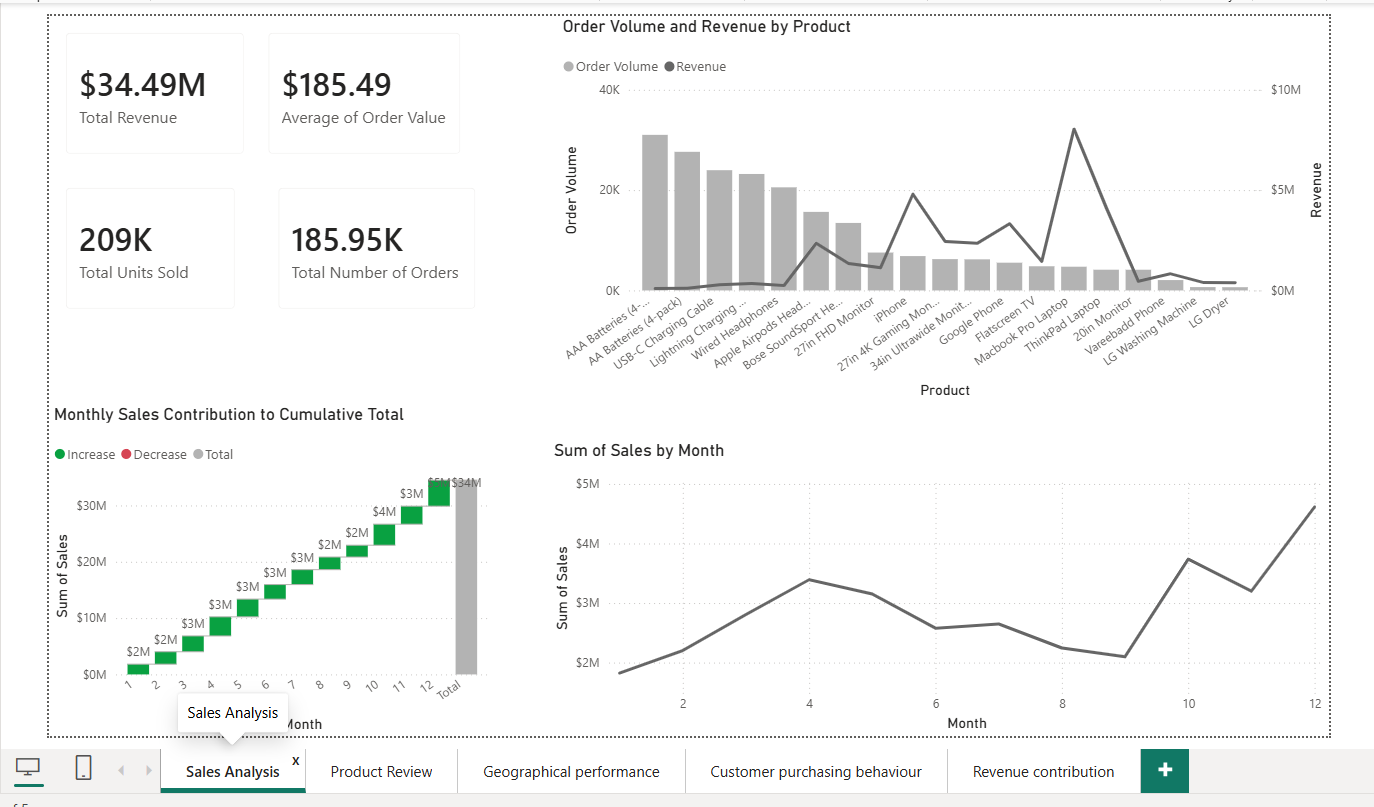

The dashboard page shown, as its layout file describes it:
{"tool":"powerbi","page":{"name":"Sales Analysis","canvas":[1280,720],"ordinal":0},"visuals":[{"type":"cardVisual","fields":{"Data":["Sales Data For Analysis.Total Revenue"]},"box":[0,0,212.7,155.1],"z":0},{"type":"lineClusteredColumnComboChart","fields":{"Category":["Sales Data For Analysis.Product"],"Y":["Sum(Sales Data For Analysis.Quantity Ordered)"],"Y2":["Sum(Sales Data For Analysis.Sales)"]},"box":[509.1,0,771.2,387],"z":1000},{"type":"cardVisual","fields":{"Data":["Sales Data For Analysis.Average Order Value"]},"box":[203.1,0,226.4,155.1],"z":2000},{"type":"cardVisual","fields":{"Data":["Sales Data For Analysis.Total Orders"]},"box":[212.7,155.1,231.9,155.1],"z":3000},{"type":"cardVisual","fields":{"Data":["Sum(Sales Data For Analysis.Quantity Ordered)"]},"box":[0,155.1,203.1,155.1],"z":4000},{"type":"lineChart","fields":{"Category":["Sales Data For Analysis.Month"],"Y":["Sum(Sales Data For Analysis.Sales)"]},"box":[499.5,424,780.8,296.4],"z":5000},{"type":"waterfallChart","title":"Monthly Sales Contribution to Cumulative Total","fields":{"Category":["Sales Data For Analysis.Month"],"Y":["Sum(Sales Data For Analysis.Sales)"]},"box":[0,387,444.6,333.4],"z":6000}]}

Visuals, with their boxes on the page's 1280x720 design canvas (x1, y1, x2, y2). These are canvas units, not pixel positions in the 1374x807 screenshot, which may show the page scaled, cropped or inside an application window:
cardVisual - Sales Data For Analysis.Total Revenue: box=[0, 0, 213, 155]
lineClusteredColumnComboChart - Sales Data For Analysis.Product x Sum(Sales Data For Analysis.Quantity Ordered): box=[509, 0, 1280, 387]
cardVisual - Sales Data For Analysis.Average Order Value: box=[203, 0, 430, 155]
cardVisual - Sales Data For Analysis.Total Orders: box=[213, 155, 445, 310]
cardVisual - Sum(Sales Data For Analysis.Quantity Ordered): box=[0, 155, 203, 310]
lineChart - Sales Data For Analysis.Month x Sum(Sales Data For Analysis.Sales): box=[500, 424, 1280, 720]
"Monthly Sales Contribution to Cumulative Total" waterfallChart: box=[0, 387, 445, 720]
